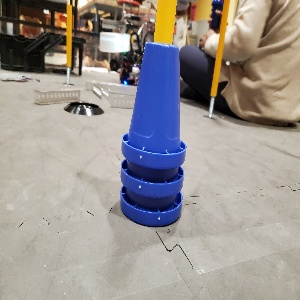Blue_3: (120, 43, 186, 227)
